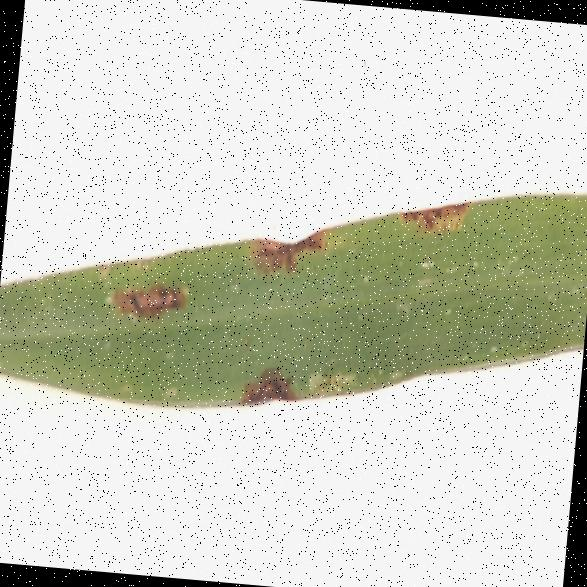Brown_Spot: (240, 190, 344, 278), (392, 164, 488, 252), (107, 252, 202, 334), (242, 344, 304, 426)
